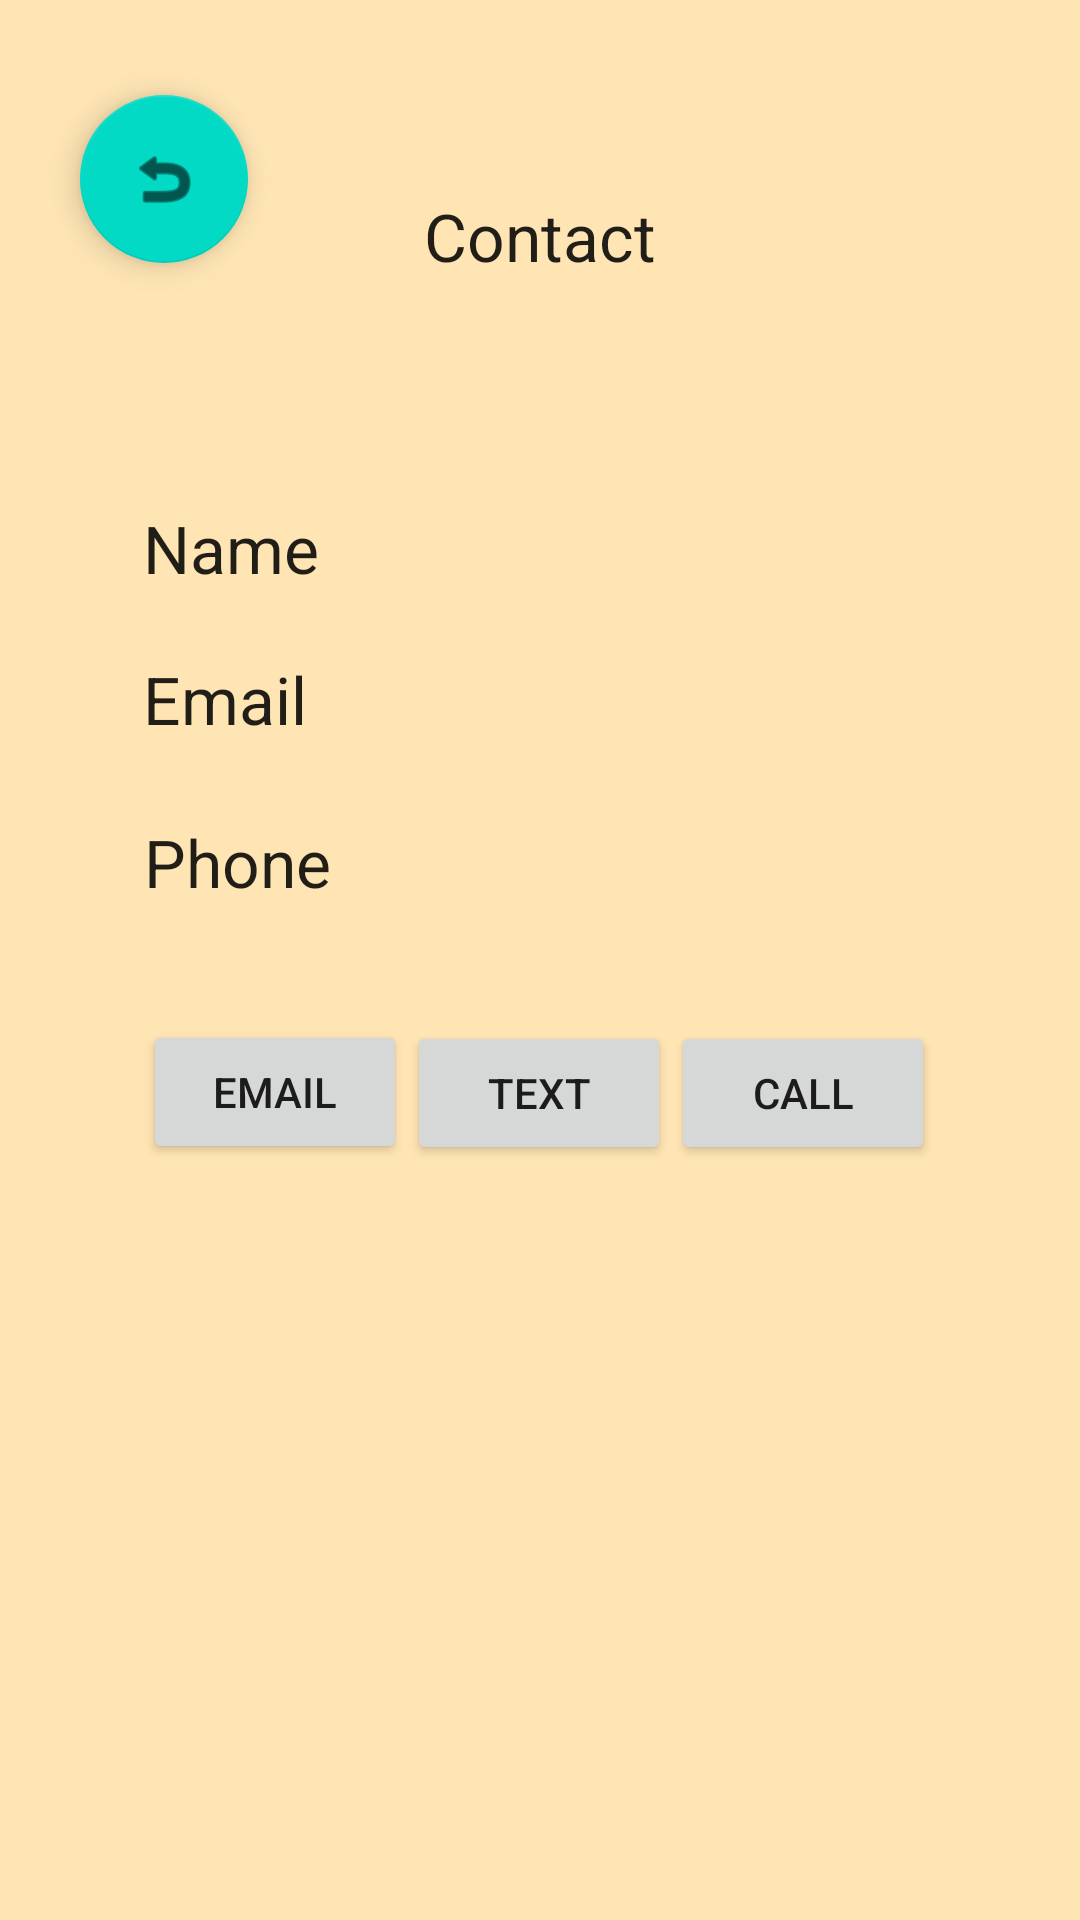

Named icons in this screenshot (1080 × 1920) and their bounding boxes, (x1, y1, x2, y2):
revert: (80, 95, 248, 263)
